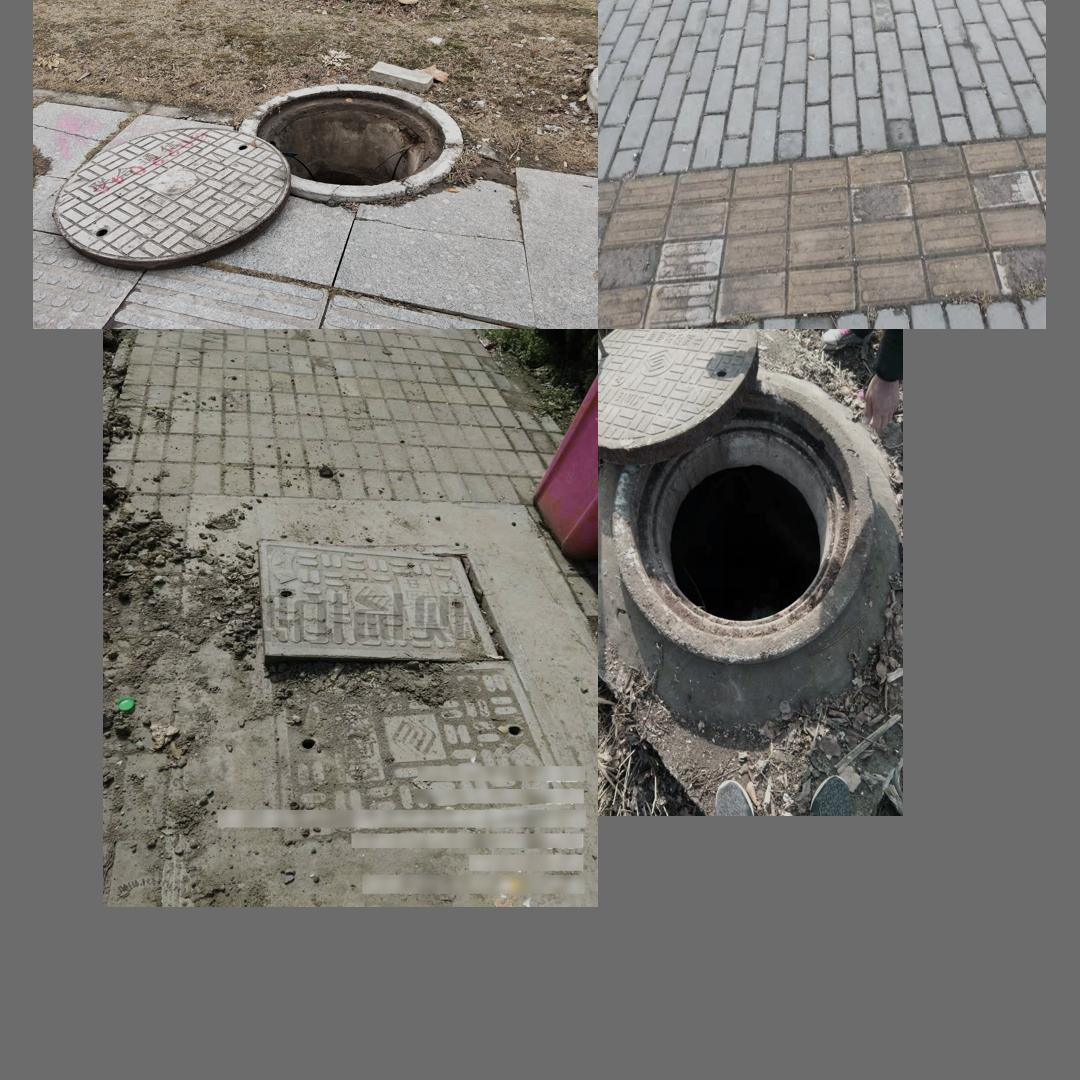uncovered: (257, 539, 576, 851), (599, 329, 875, 661), (52, 83, 463, 268)
